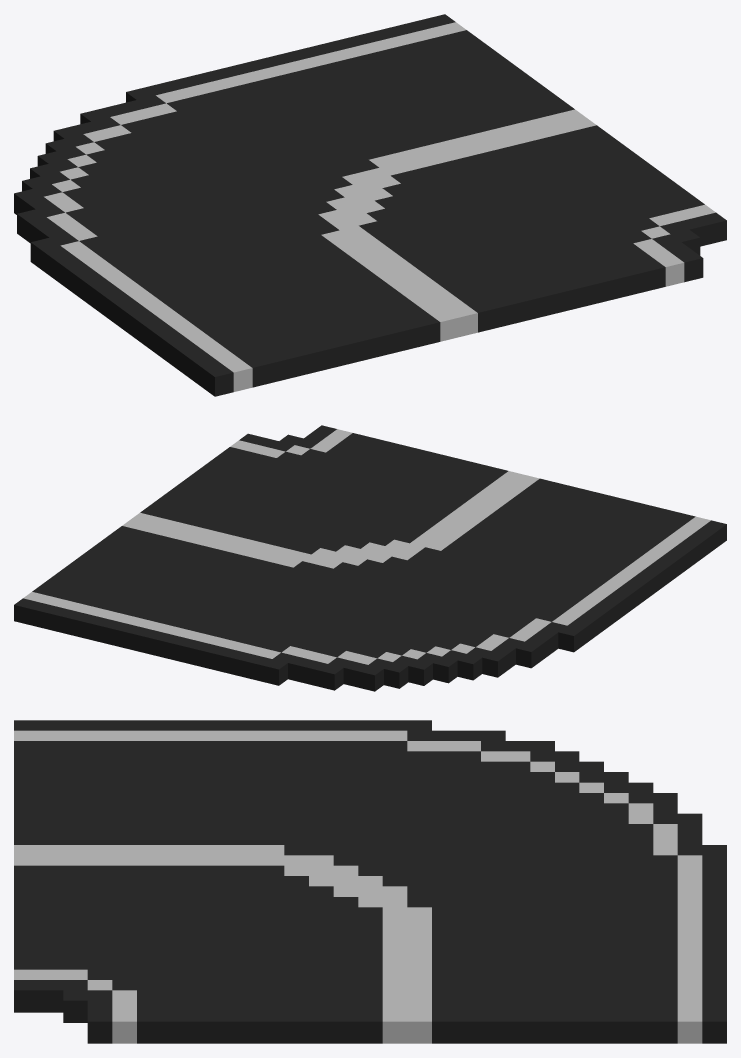
The model's file is road-rounded-curve-2.gltf.
3 views of the same model, one above another, from view 1: azimuth 30°, elevation 25°; view 2: azimuth 150°, elevation 25°; view 3: azimuth 270°, elevation 25° (orthographic). The views are drawn at different scales.
Parts seen in each view (by area): view 1: road-rounded-curve-2_model; view 2: road-rounded-curve-2_model; view 3: road-rounded-curve-2_model.
Part boxes in pixels (<box>): road-rounded-curve-2_model: <box>14,14,726,396</box>; road-rounded-curve-2_model: <box>14,425,726,691</box>; road-rounded-curve-2_model: <box>14,720,726,1043</box>.
Bounding box in the file's own units: 2.9 × 0.1 × 2.9.
1 material, 1 textured.
